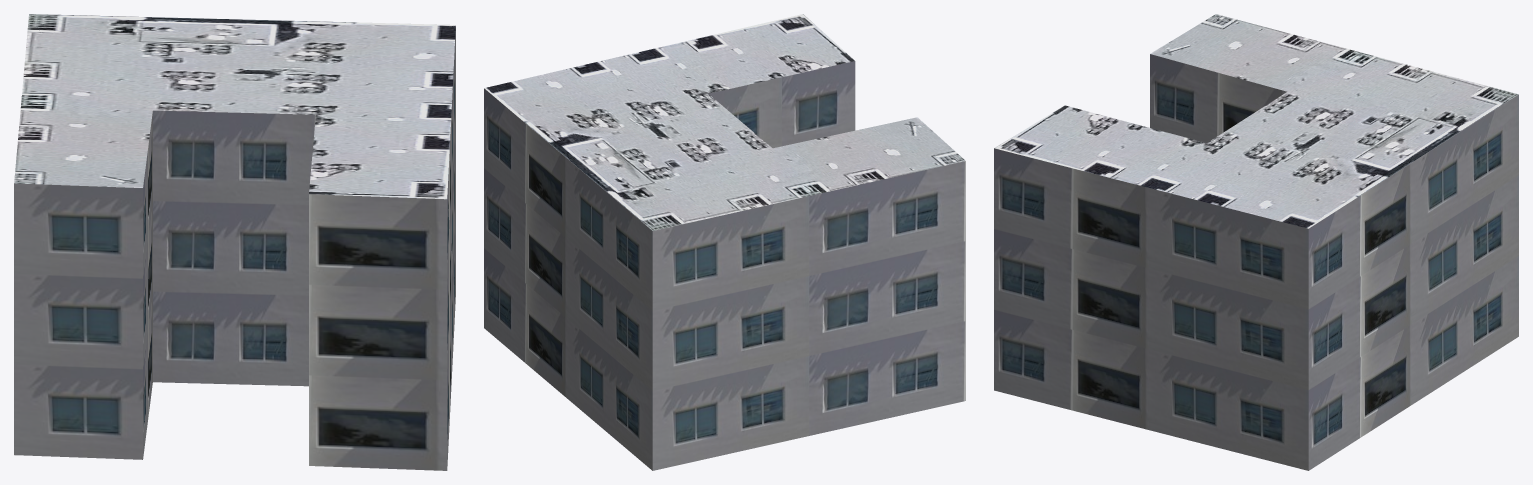
File: ResTex__627.fbx
The picture shows the model from 3 angles, left to right: view 1: azimuth 30°, elevation 25°; view 2: azimuth 150°, elevation 25°; view 3: azimuth 270°, elevation 25°; orthographic projection. The views are drawn at different scales.
Parts seen in each view (by area): view 1: CityEngineMaterial_10_m, CityEngineMaterial_8_m; view 2: CityEngineMaterial_10_m, CityEngineMaterial_8_m; view 3: CityEngineMaterial_10_m, CityEngineMaterial_8_m.
Part boxes in pixels (left/top/right/bottom): CityEngineMaterial_10_m: left=14, top=26, right=455, bottom=470; CityEngineMaterial_8_m: left=14, top=14, right=455, bottom=199; CityEngineMaterial_10_m: left=484, top=61, right=965, bottom=470; CityEngineMaterial_8_m: left=484, top=14, right=965, bottom=230; CityEngineMaterial_10_m: left=994, top=54, right=1518, bottom=470; CityEngineMaterial_8_m: left=994, top=14, right=1518, bottom=228.
Size of the model in its own units: 17.11 by 9 by 17.68.
2 materials, 2 textured.
